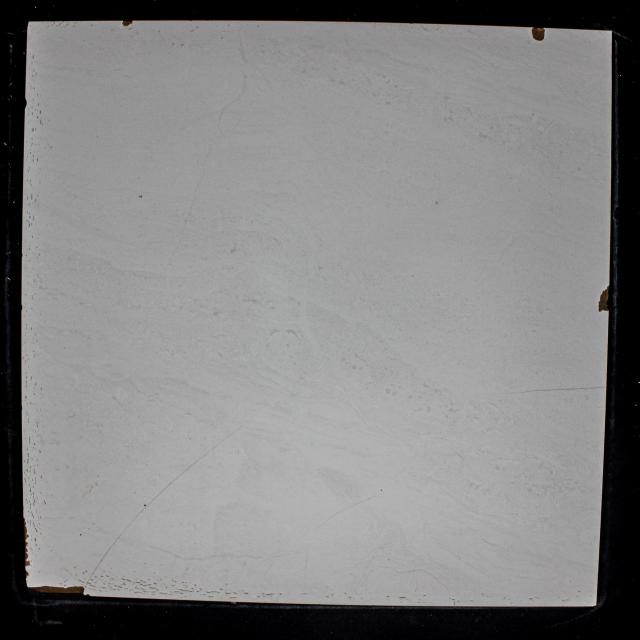edge-chipping: (25, 584, 85, 598), (597, 285, 611, 314), (530, 25, 546, 41), (22, 518, 28, 540), (121, 19, 134, 27), (24, 553, 30, 567), (23, 570, 31, 580), (23, 541, 29, 553)
line: (148, 462, 198, 504), (93, 528, 126, 574), (322, 496, 373, 525), (202, 428, 238, 458), (519, 385, 605, 394), (128, 507, 146, 528)
